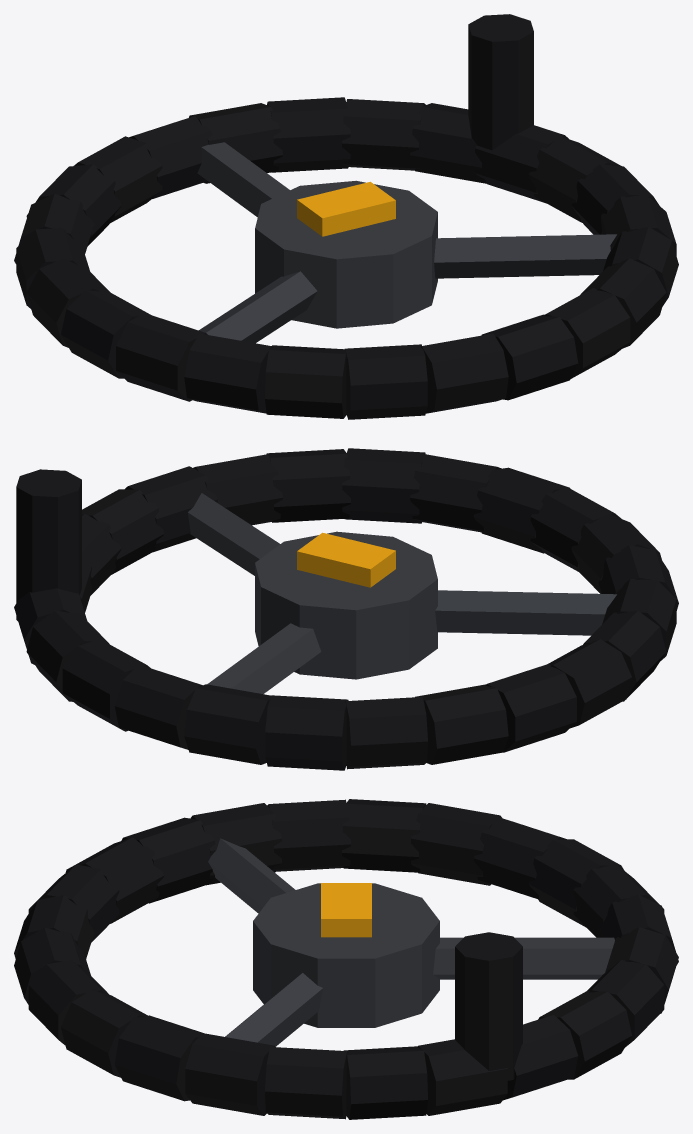
Rendered from steering_wheel.glb.
The picture shows the model from 3 angles, top to bottom: view 1: azimuth 30°, elevation 25°; view 2: azimuth 150°, elevation 25°; view 3: azimuth 270°, elevation 25°; orthographic projection.
Visible parts, largest first — view 1: SteeringWheel; view 2: SteeringWheel; view 3: SteeringWheel.
Boxes of the visible parts, left/top/right/bottom form: SteeringWheel: left=14, top=14, right=678, bottom=419; SteeringWheel: left=14, top=448, right=678, bottom=770; SteeringWheel: left=14, top=799, right=678, bottom=1119.
Size of the model in its own units: 0.3913 by 0.1008 by 0.3913.
